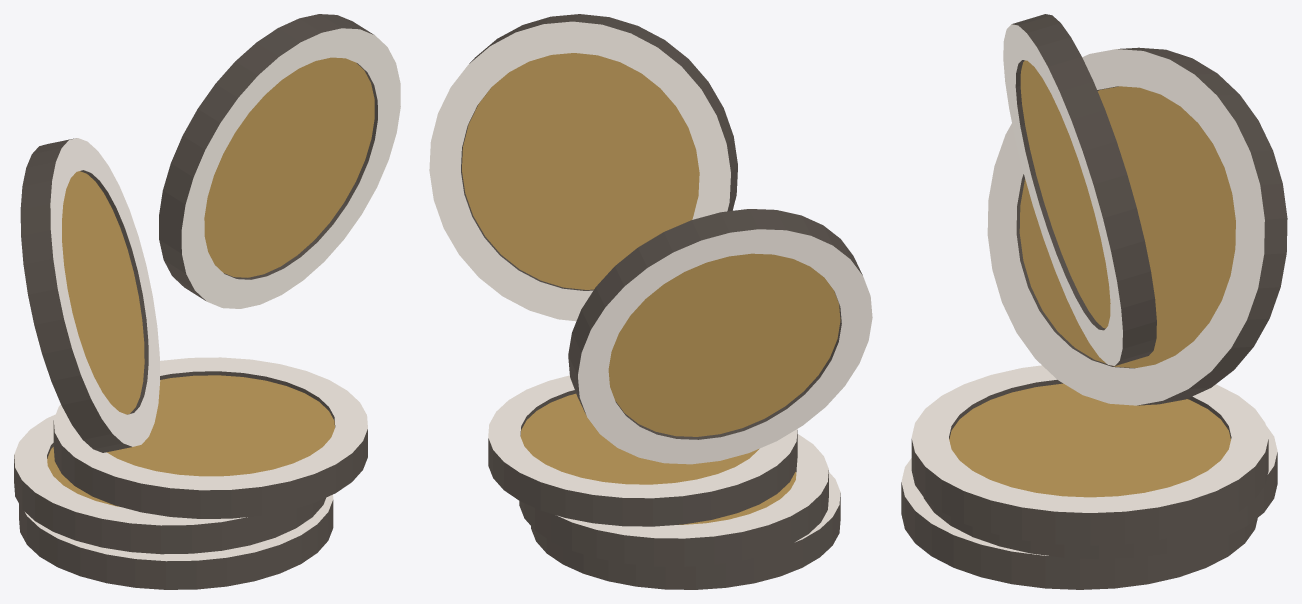
Rendered from Coins.glb.
3 views of the same model, side by side, from view 1: azimuth 30°, elevation 25°; view 2: azimuth 150°, elevation 25°; view 3: azimuth 270°, elevation 25° (orthographic). The views are drawn at different scales.
Visible parts, largest first — view 1: Cylinder.002; view 2: Cylinder.002; view 3: Cylinder.002.
Part boxes in pixels (x1,y1,x2,y2): Cylinder.002: (14, 14, 400, 589); Cylinder.002: (429, 14, 872, 589); Cylinder.002: (901, 14, 1287, 589).
Size of the model in its own units: 1.36 by 1.55 by 0.9972.
